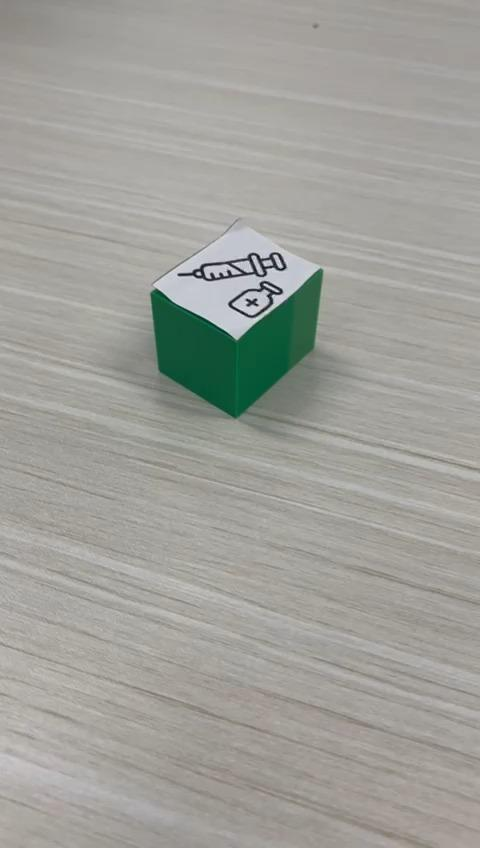antiseptic cream: (148, 216, 324, 419)
